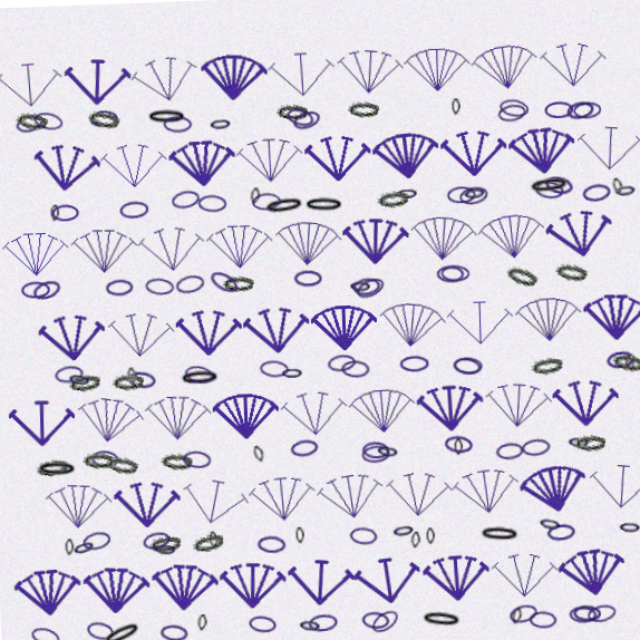chain: (89, 551, 128, 579), (196, 240, 226, 266), (330, 549, 359, 575), (249, 177, 287, 196), (376, 553, 414, 572), (463, 246, 494, 269), (328, 251, 357, 275), (487, 168, 525, 186), (431, 479, 469, 497), (173, 475, 204, 497), (25, 554, 54, 576), (271, 97, 299, 119), (38, 243, 66, 265), (94, 93, 124, 113), (556, 328, 586, 348), (147, 95, 184, 111), (285, 179, 322, 195), (168, 330, 205, 346), (37, 407, 74, 423), (277, 100, 305, 121), (75, 551, 103, 572), (508, 246, 538, 265), (68, 329, 98, 348), (483, 329, 513, 348), (36, 404, 66, 423), (99, 404, 129, 423), (135, 476, 165, 495), (45, 93, 73, 113), (172, 325, 200, 345), (29, 94, 56, 114), (501, 167, 528, 187), (455, 550, 482, 570), (463, 97, 491, 116), (424, 174, 452, 193), (167, 244, 195, 263), (525, 553, 553, 572), (30, 93, 59, 111), (351, 175, 380, 193), (523, 101, 550, 120), (166, 168, 193, 187), (413, 327, 440, 346), (75, 471, 102, 490), (129, 473, 156, 492), (492, 172, 520, 190), (140, 246, 167, 264), (221, 552, 248, 570), (65, 476, 89, 496), (462, 102, 488, 120), (535, 176, 561, 194), (121, 329, 147, 347), (168, 402, 194, 420), (403, 397, 429, 415), (315, 476, 341, 494), (142, 557, 168, 575), (323, 552, 349, 570), (56, 322, 83, 339), (240, 324, 267, 341), (472, 403, 499, 420), (275, 553, 302, 570), (108, 331, 136, 347), (149, 404, 177, 420), (520, 401, 548, 417), (326, 253, 352, 270), (301, 321, 327, 338), (551, 327, 577, 344), (86, 399, 112, 416), (265, 396, 291, 413), (329, 400, 355, 417), (232, 481, 258, 498), (492, 480, 518, 497), (67, 326, 90, 345), (484, 471, 507, 490), (190, 174, 217, 190), (264, 95, 292, 110), (328, 95, 356, 110), (210, 247, 238, 262), (79, 401, 107, 416), (162, 102, 188, 118), (120, 177, 146, 193), (239, 174, 265, 190), (406, 245, 432, 261), (313, 327, 339, 343), (414, 328, 440, 344), (449, 406, 475, 422), (473, 558, 499, 574), (509, 555, 535, 571), (341, 401, 364, 419), (530, 103, 555, 119), (402, 245, 427, 261), (329, 404, 354, 420), (513, 554, 538, 570), (96, 95, 122, 110), (504, 102, 530, 117), (414, 175, 440, 190), (29, 246, 55, 261), (366, 325, 392, 340), (59, 178, 84, 193), (105, 247, 130, 262), (274, 245, 299, 260), (428, 173, 450, 190), (139, 482, 161, 499), (353, 473, 375, 490), (266, 555, 288, 572), (563, 176, 585, 192), (513, 400, 535, 416), (556, 478, 578, 494), (203, 103, 224, 119), (323, 253, 344, 269), (368, 172, 389, 187), (259, 329, 280, 344), (231, 400, 243, 416), (562, 172, 573, 188), (567, 331, 578, 347), (457, 554, 468, 570), (237, 169, 247, 185), (121, 326, 131, 342), (189, 476, 198, 491), (370, 483, 379, 498), (176, 550, 185, 565), (421, 96, 429, 111), (58, 178, 66, 193), (412, 401, 420, 416), (60, 478, 68, 493), (267, 475, 275, 490), (384, 480, 392, 495)
fan: (162, 422, 229, 478), (133, 43, 198, 96), (72, 347, 137, 400), (468, 423, 533, 476), (42, 120, 106, 171), (500, 196, 564, 247), (286, 424, 350, 475), (500, 500, 564, 551), (439, 45, 502, 95), (347, 273, 410, 323), (317, 501, 380, 551), (378, 197, 441, 246), (408, 425, 471, 474), (530, 425, 593, 474), (318, 45, 380, 94), (257, 197, 319, 246), (440, 349, 502, 398), (135, 501, 197, 550), (257, 501, 319, 550), (196, 46, 258, 94), (348, 122, 410, 170), (470, 122, 532, 170), (531, 122, 593, 170), (440, 198, 502, 246), (104, 274, 166, 322), (348, 426, 410, 474), (74, 502, 135, 550), (74, 46, 135, 93), (318, 198, 379, 245), (135, 350, 196, 397), (43, 426, 104, 473), (226, 426, 287, 473), (13, 502, 74, 549), (13, 47, 74, 93), (135, 199, 196, 245), (43, 275, 104, 321), (166, 123, 226, 169), (166, 275, 226, 321), (227, 275, 287, 321), (258, 351, 318, 397), (319, 351, 379, 397), (105, 427, 165, 473), (197, 503, 257, 549), (380, 503, 440, 549), (441, 503, 501, 549), (258, 47, 318, 92), (75, 199, 135, 244), (471, 275, 531, 320), (532, 275, 592, 320), (380, 351, 440, 396), (227, 123, 286, 168), (14, 351, 73, 396), (502, 351, 561, 396), (380, 48, 439, 92), (502, 48, 561, 92), (105, 124, 164, 168), (288, 124, 347, 168), (410, 124, 469, 168), (14, 200, 73, 244), (197, 200, 256, 244), (288, 276, 347, 320), (410, 276, 469, 320), (197, 352, 256, 396)
